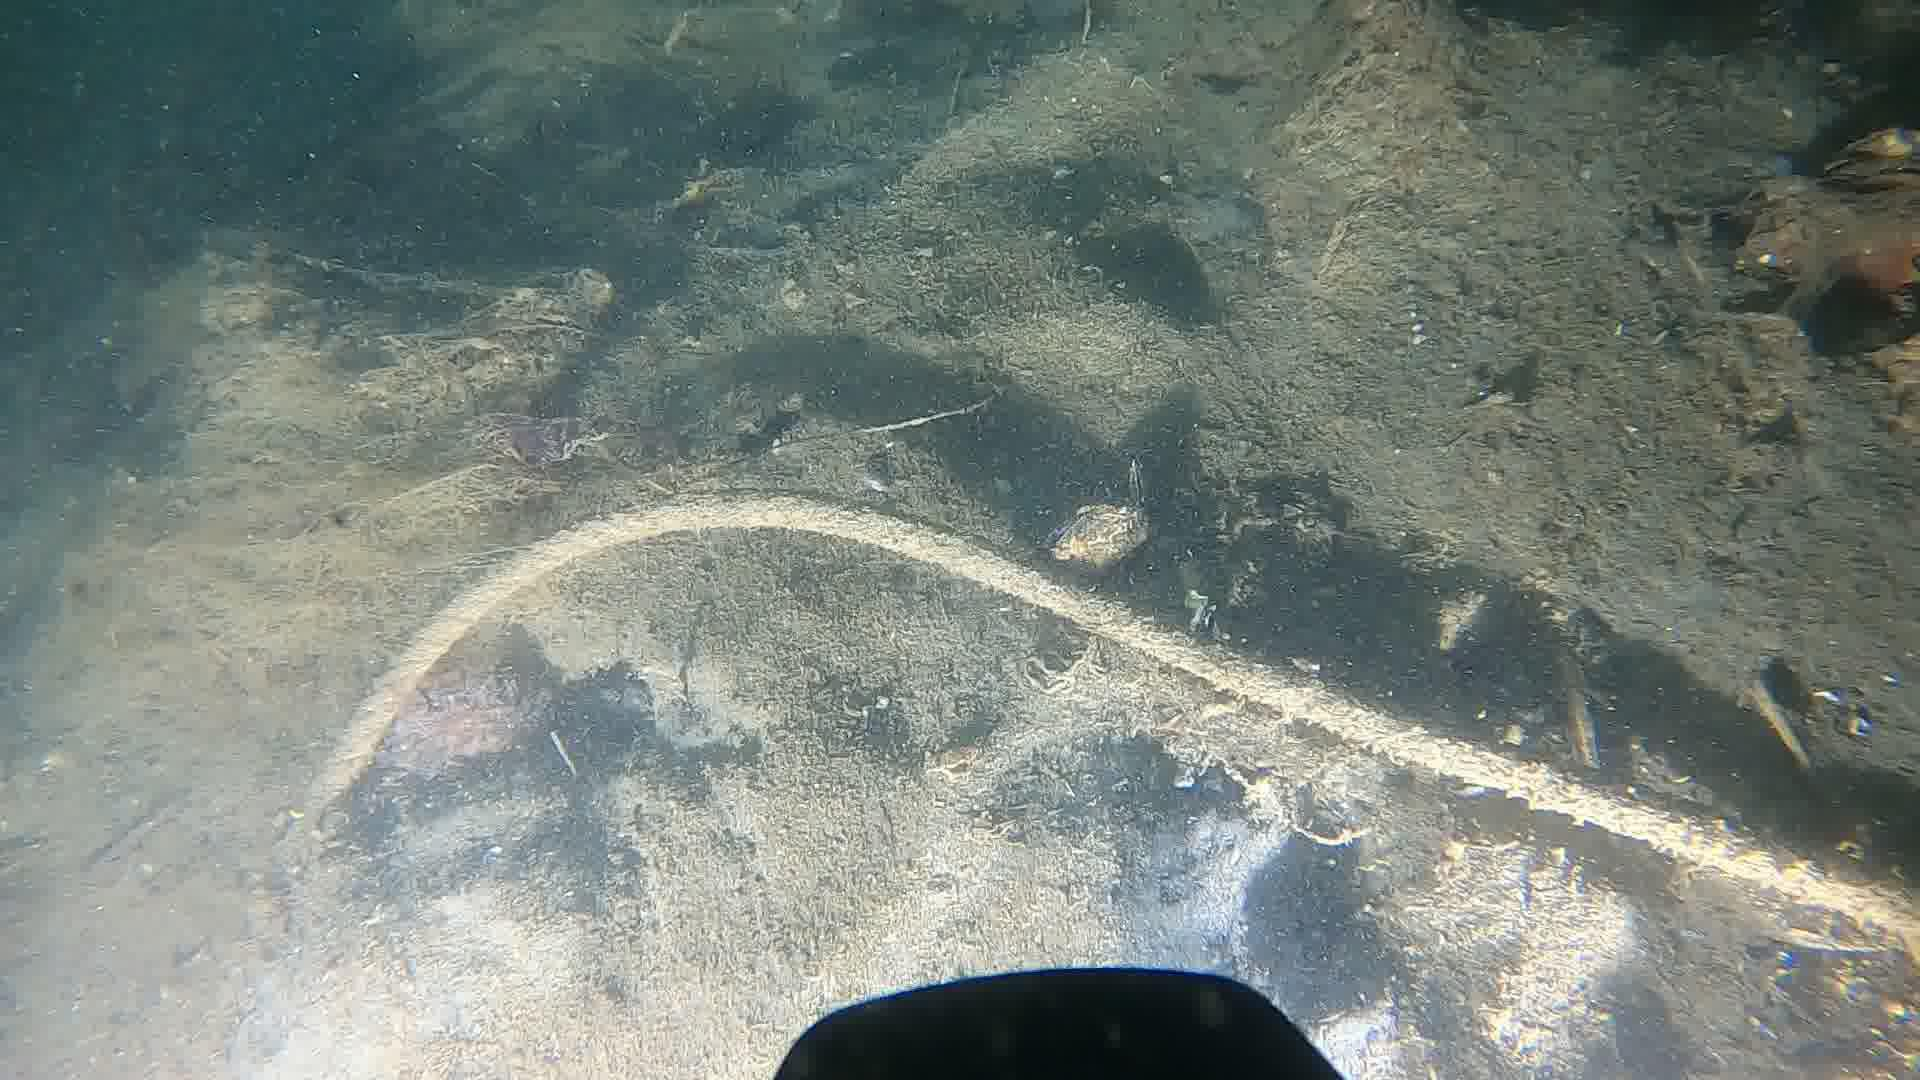rope: (305, 492, 1920, 956)
